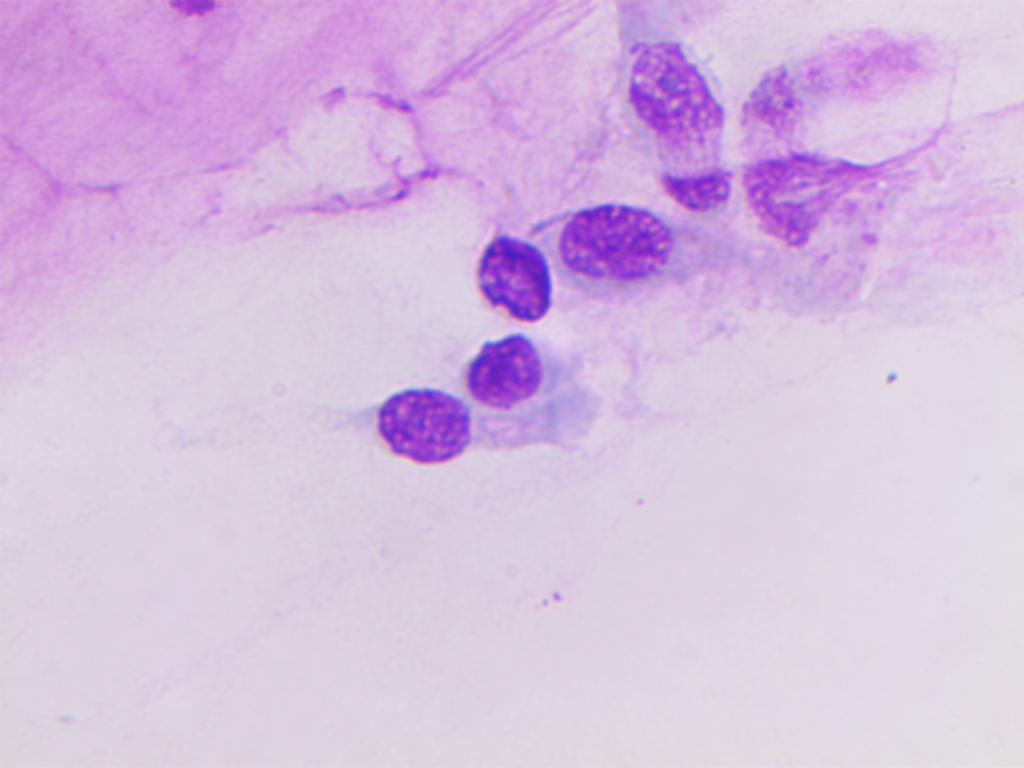epithelial: (465, 333, 601, 456), (555, 194, 675, 286), (458, 225, 557, 327), (356, 382, 470, 467)
goblet_cell: (615, 25, 734, 208)
